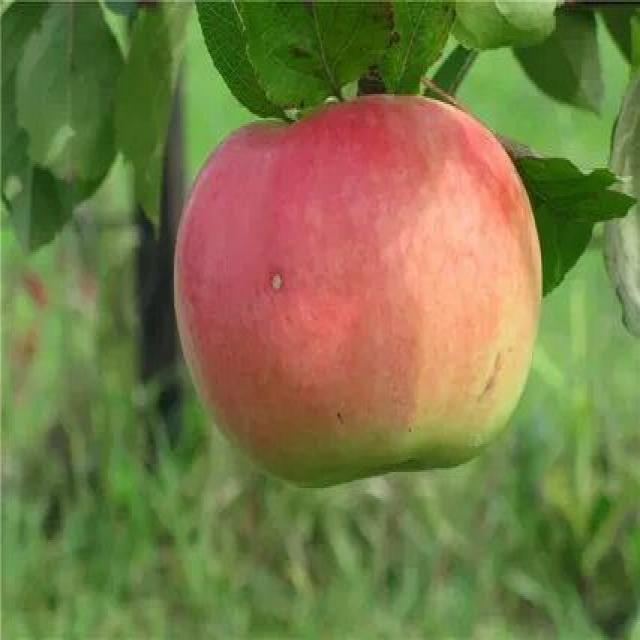Fresh Apple: (187, 106, 563, 482)
